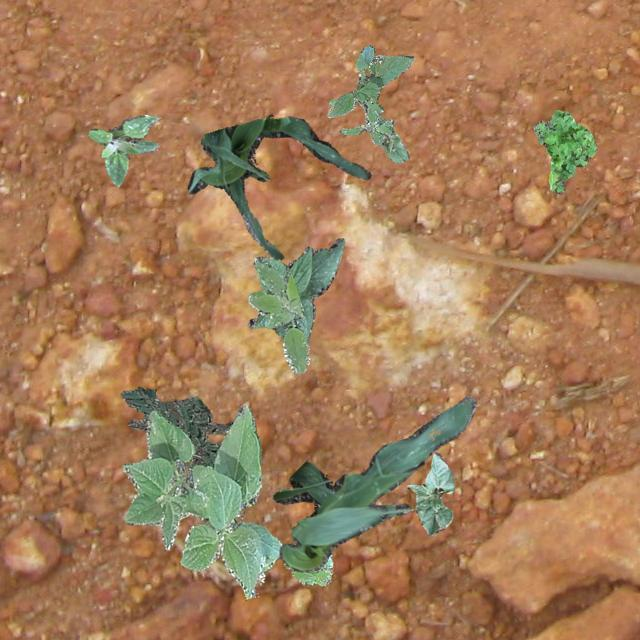crop: (272, 394, 476, 570), (121, 404, 282, 598), (187, 114, 370, 258), (246, 238, 344, 340), (326, 45, 414, 116), (406, 452, 454, 534), (377, 116, 408, 162)
weed: (120, 386, 232, 470), (246, 258, 308, 372), (532, 109, 596, 192), (86, 114, 158, 186), (328, 94, 393, 142), (282, 552, 332, 584)
